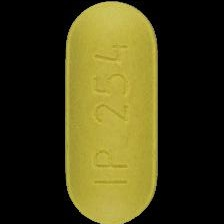60760-026: (0, 0, 224, 224)
